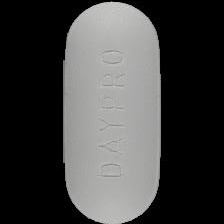55289-453: (0, 0, 224, 224)
